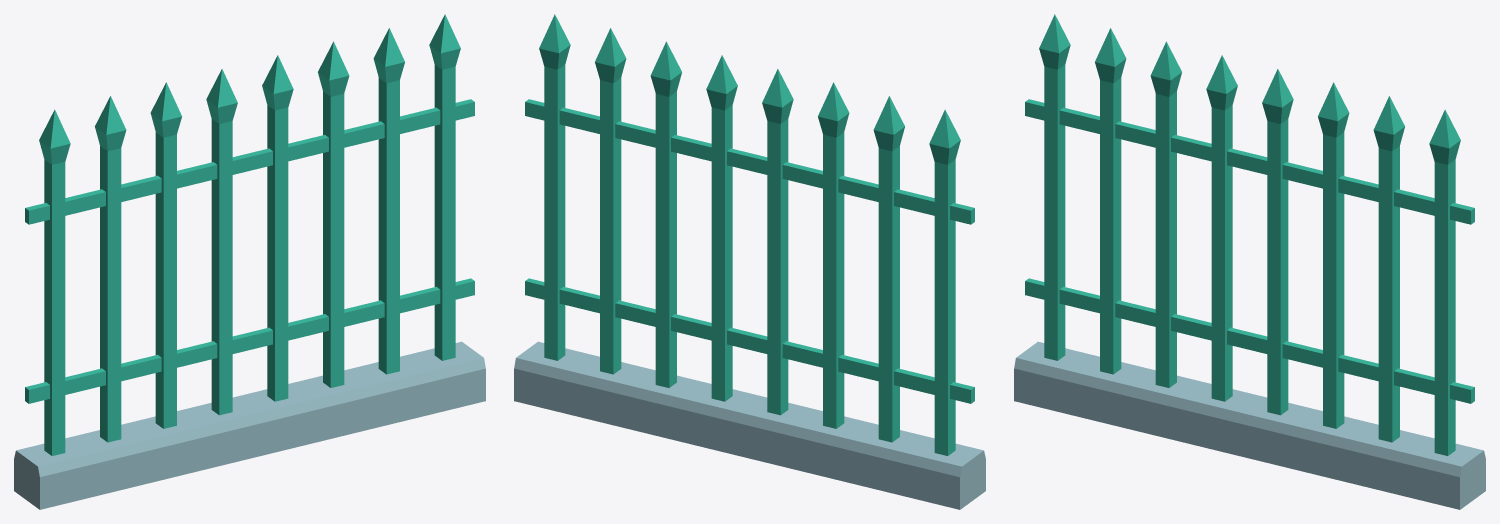
Rendered from ironFenceBorder.obj.
The picture shows the model from 3 angles, left to right: view 1: azimuth 30°, elevation 25°; view 2: azimuth 150°, elevation 25°; view 3: azimuth 330°, elevation 25°; orthographic projection.
Visible parts, largest first — view 1: ironFenceBorder; view 2: ironFenceBorder; view 3: ironFenceBorder.
Boxes of the visible parts, left/top/right/bottom form: ironFenceBorder: left=14, top=14, right=485, bottom=509; ironFenceBorder: left=514, top=14, right=985, bottom=509; ironFenceBorder: left=1014, top=14, right=1485, bottom=509.
Bounding box in the file's own units: 1 × 0.8239 × 0.1.
